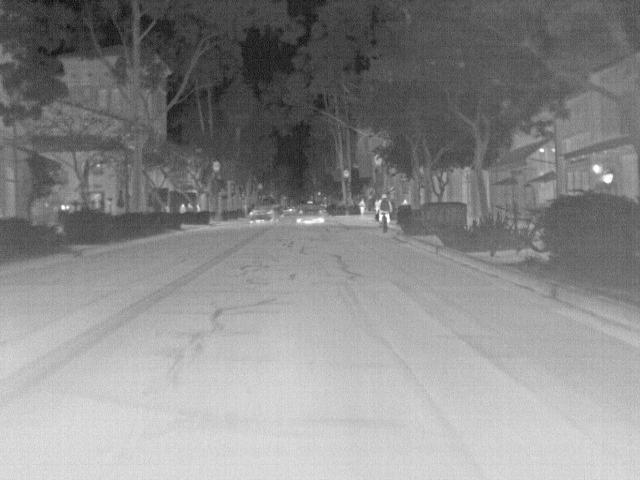car: (249, 201, 284, 222), (297, 203, 325, 224)
person: (376, 193, 390, 214), (358, 197, 368, 215), (186, 202, 196, 214), (178, 202, 185, 214)
